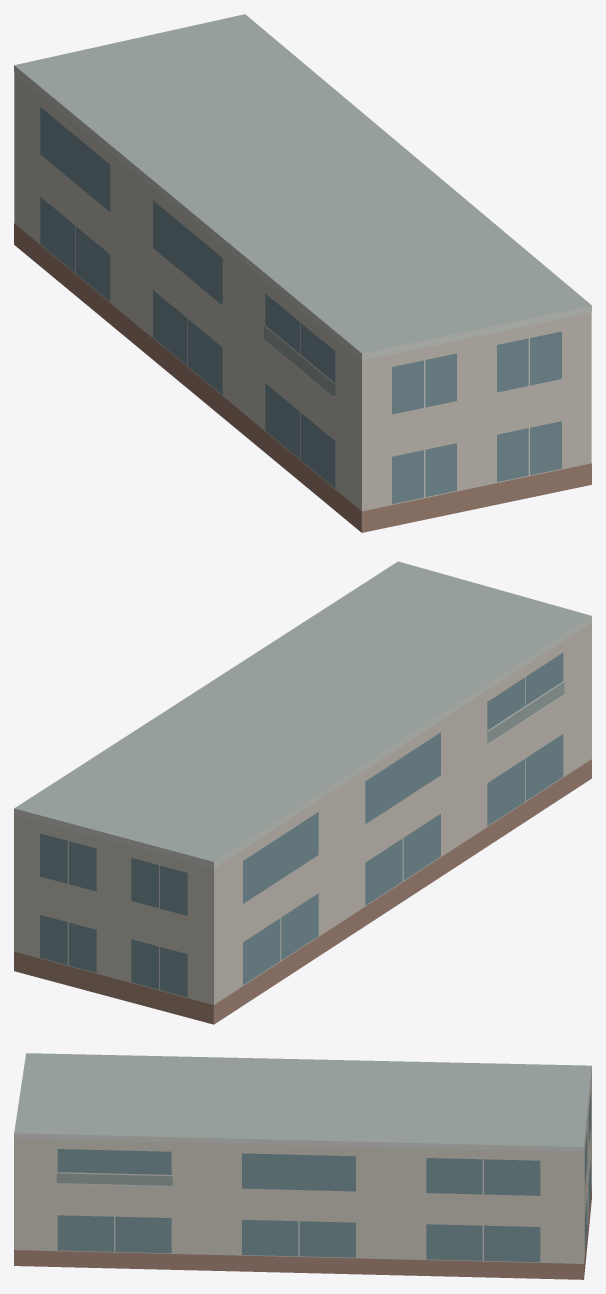
The model's file is survey-upis-32727372.glb.
3 views of the same model, one above another, from view 1: azimuth 30°, elevation 25°; view 2: azimuth 150°, elevation 25°; view 3: azimuth 270°, elevation 25° (orthographic). The views are drawn at different scales.
Parts seen in each view (by area): view 1: survey-upis-32727372.tmp; view 2: survey-upis-32727372.tmp; view 3: survey-upis-32727372.tmp.
Boxes of the visible parts, x1,y1,x2,y2 form: survey-upis-32727372.tmp: (14, 14, 591, 532); survey-upis-32727372.tmp: (14, 561, 591, 1024); survey-upis-32727372.tmp: (14, 1053, 591, 1279).
Bounding box in the file's own units: 9.27 × 6.1 × 24.07.
